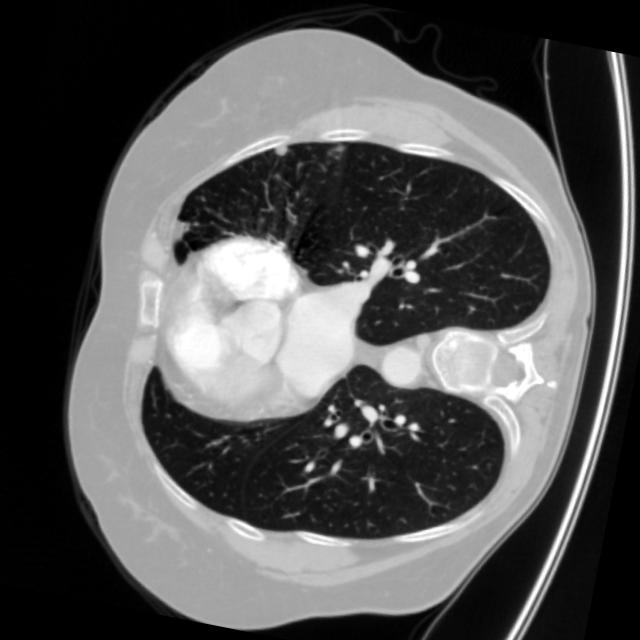nodule: (266, 134, 296, 163)
